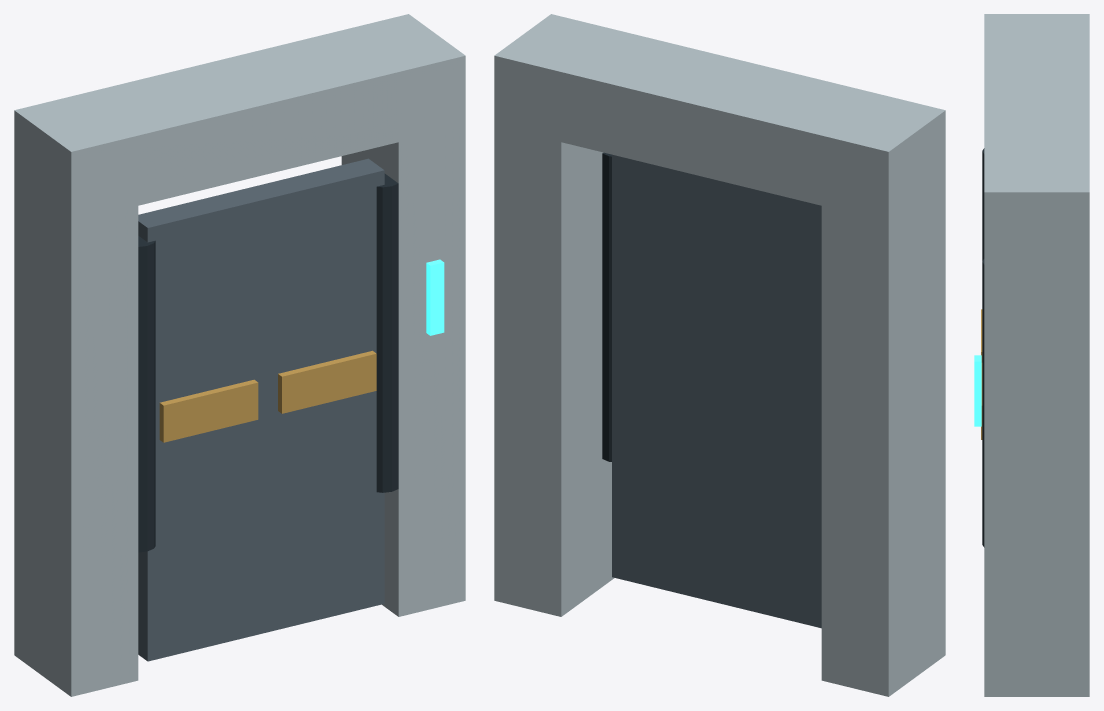
Rendered from door.glb.
3 views of the same model, side by side, from view 1: azimuth 30°, elevation 25°; view 2: azimuth 150°, elevation 25°; view 3: azimuth 270°, elevation 25° (orthographic). The views are drawn at different scales.
Visible parts, largest first — view 1: armored door jamb, door lintel, hinged door leaf left, hinged door leaf right, armored door jamb.001, visible door hinge.001, visible door hinge, door leaf reinforcement left, door leaf reinforcement right, access status indicator; view 2: armored door jamb, armored door jamb.001, hinged door leaf right, door lintel, hinged door leaf left, visible door hinge.001; view 3: armored door jamb.001, door lintel, visible door hinge.001, access status indicator, visible door hinge.
Boxes of the visible parts, x1,y1,x2,y2 form: armored door jamb: (14, 119, 138, 696); door lintel: (14, 14, 465, 221); hinged door leaf left: (138, 187, 266, 661); hinged door leaf right: (250, 158, 384, 632); armored door jamb.001: (341, 64, 465, 616); visible door hinge.001: (376, 173, 398, 492); visible door hinge: (138, 236, 155, 552); door leaf reinforcement left: (159, 379, 258, 442); door leaf reinforcement right: (278, 350, 376, 413); access status indicator: (426, 259, 444, 335); armored door jamb: (821, 119, 945, 696); armored door jamb.001: (494, 64, 614, 616); hinged door leaf right: (612, 154, 730, 605); door lintel: (494, 14, 945, 221); hinged door leaf left: (730, 183, 821, 628); visible door hinge.001: (602, 152, 611, 461); armored door jamb.001: (984, 200, 1089, 696); door lintel: (984, 14, 1089, 256); visible door hinge.001: (982, 259, 984, 547); access status indicator: (974, 355, 981, 426); visible door hinge: (982, 148, 984, 260).
Bounding box in the file's own units: 1 × 1.32 × 0.274.
